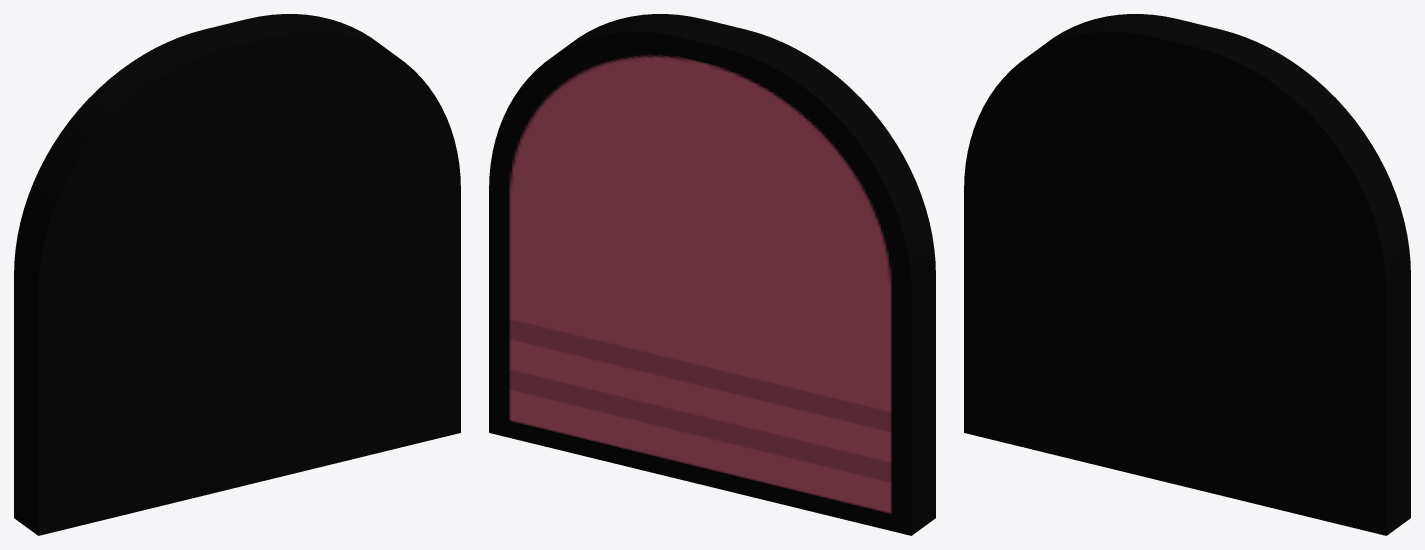
The model's file is box-door-pink.glb.
3 views of the same model, side by side, from view 1: azimuth 30°, elevation 25°; view 2: azimuth 150°, elevation 25°; view 3: azimuth 330°, elevation 25° (orthographic).
Parts seen in each view (by area): view 1: Cube.004; view 2: Cube.004; view 3: Cube.004.
Part boxes in pixels (x1,y1,x2,y2): Cube.004: (14,14,460,535); Cube.004: (489,14,935,535); Cube.004: (964,14,1410,535).
Bounding box in the file's own units: 0.2 × 0.2 × 0.02.
Materials: 1 (1 with a texture image).
